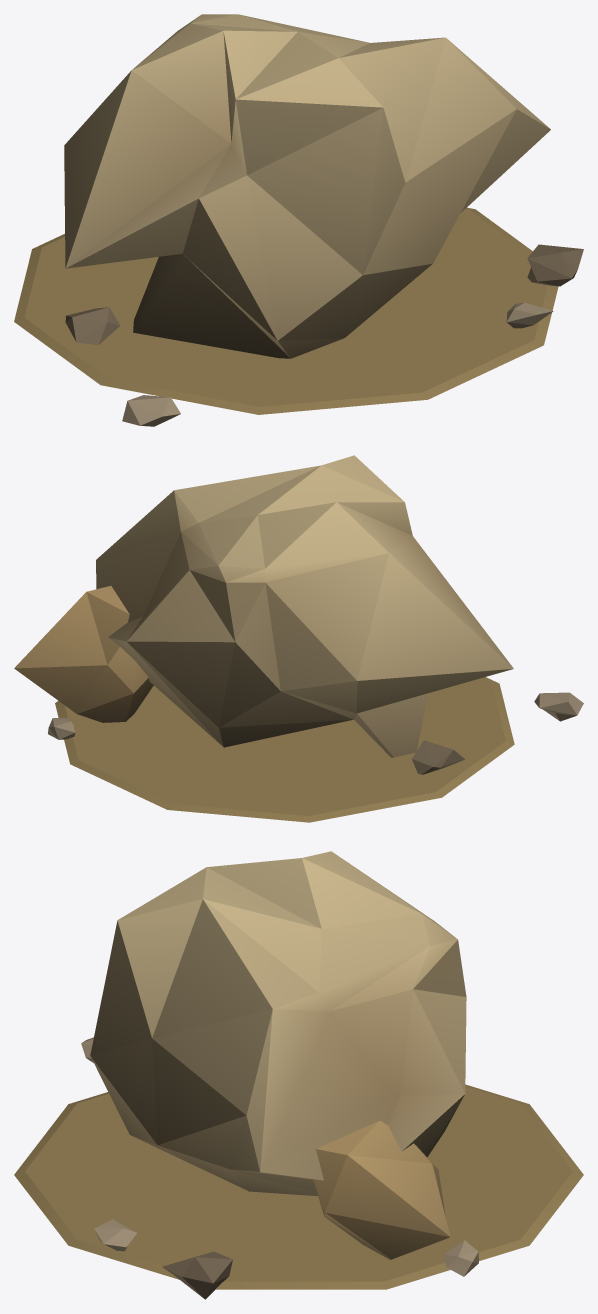
The model's file is sandstone_boulder.glb.
3 renders of one model, top to bottom at view 1: azimuth 30°, elevation 25°; view 2: azimuth 150°, elevation 25°; view 3: azimuth 270°, elevation 25°, orthographic. The views are drawn at different scales.
Parts seen in each view (by area): view 1: sandstone_boulder; view 2: sandstone_boulder; view 3: sandstone_boulder.
Part boxes in pixels (x1,y1,x2,y2): sandstone_boulder: (14,14,583,426); sandstone_boulder: (14,455,583,822); sandstone_boulder: (14,851,583,1299).
Bounding box in the file's own units: 1.88 × 1.06 × 1.79.
